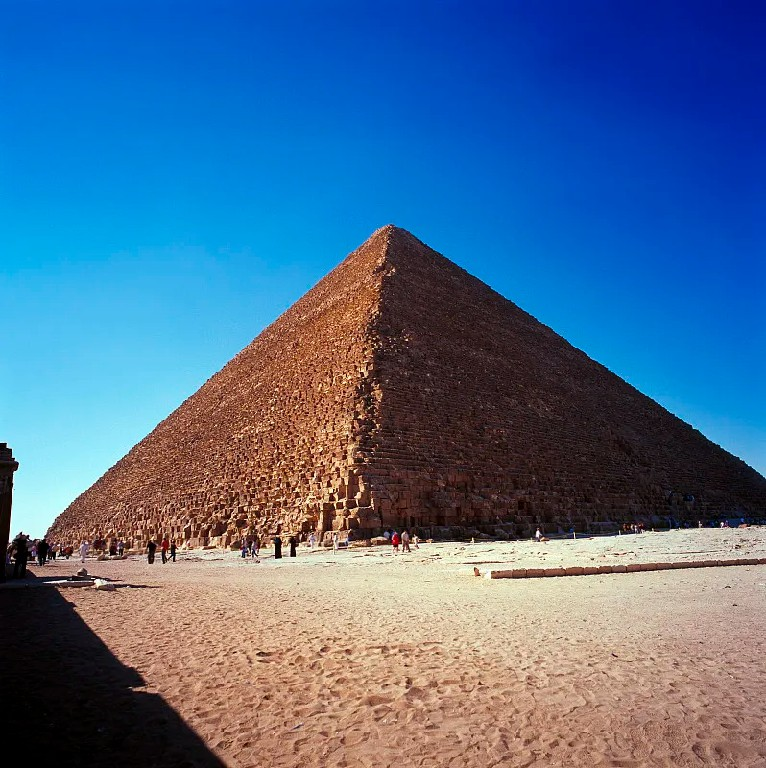Pyramid: (39, 224, 766, 541)
